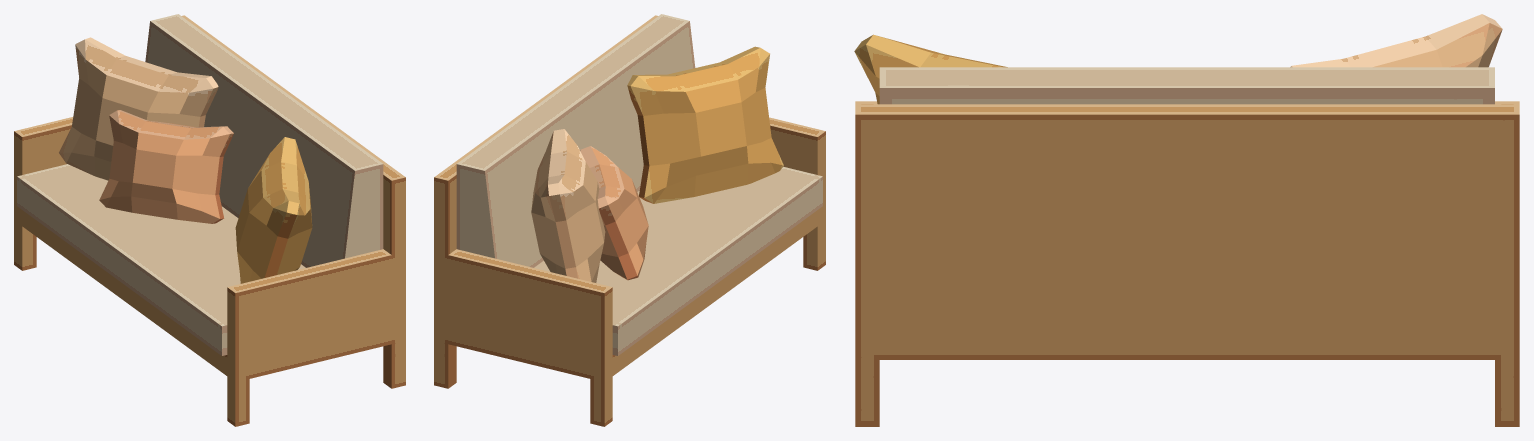
File: bench.gltf
3 views of the same model, side by side, from view 1: azimuth 30°, elevation 25°; view 2: azimuth 150°, elevation 25°; view 3: azimuth 270°, elevation 25° (orthographic). The views are drawn at different scales.
Parts seen in each view (by area): view 1: mesh (×3), pillow (×3); view 2: mesh (×3), pillow (×3); view 3: mesh (×2), pillow (×2).
Boxes of the visible parts, x1,y1,x2,y2 form: mesh (×3): (14,14,405,426); pillow (×3): (59,37,312,283); mesh (×3): (434,14,825,426); pillow (×3): (531,46,783,282); mesh (×2): (855,67,1519,426); pillow (×2): (854,14,1502,104).
Bounding box in the file's own units: 1.55 × 1.85 × 3.38.
Materials: 4 (3 with a texture image).
